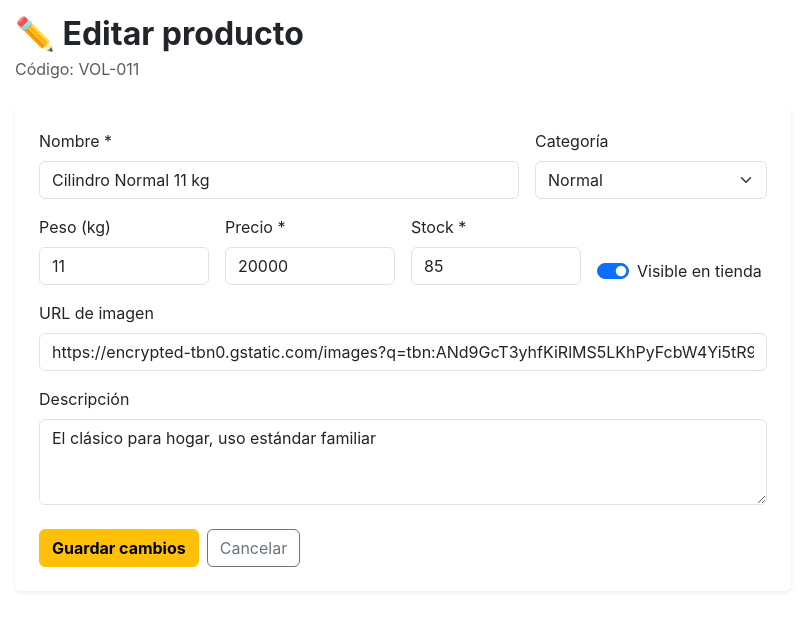
ProductEdit - CRUD Update producto › valida el nombre obligatorio al editar
The width and height of the screenshot is (806, 635).
Step 1. Clear the field below "Nombre *" → (279, 180), box [39,161,519,199]
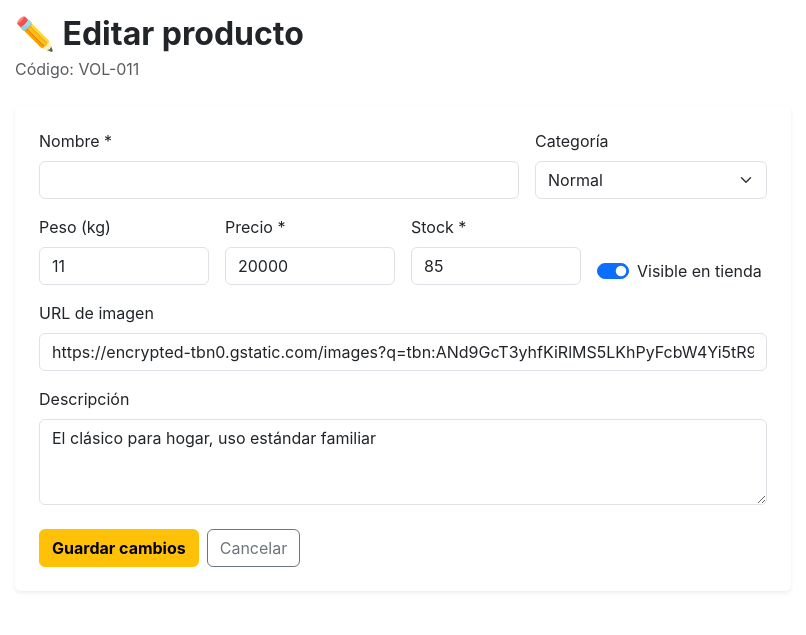
Step 2. Click the button "Guardar cambios" → (119, 548), box [39,529,199,567]
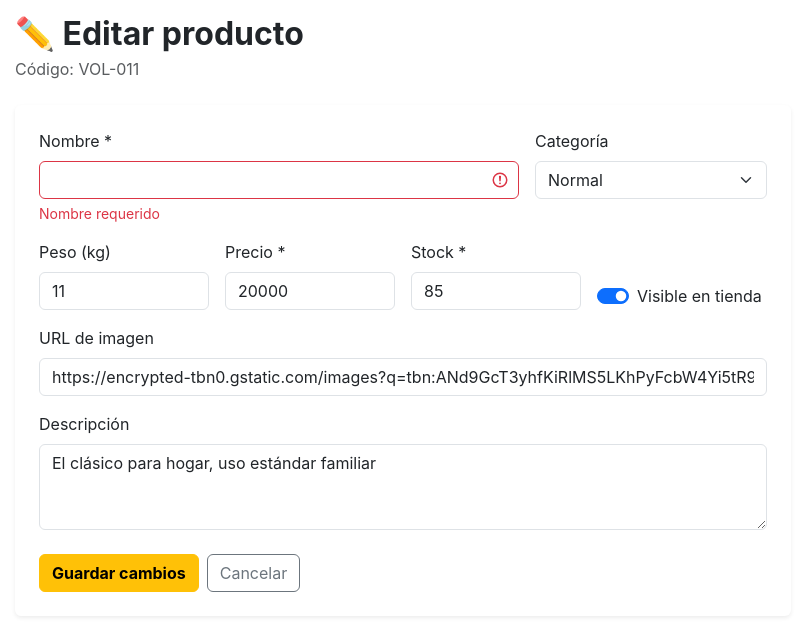
Expected: the text "Nombre requerido" is shown, [39,205,160,222]
